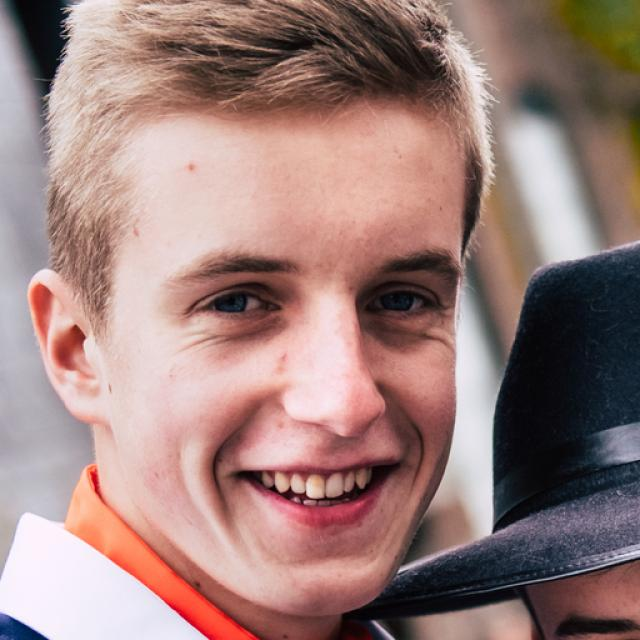Acne: (269, 342, 295, 375)
Spots: (178, 154, 212, 183)
